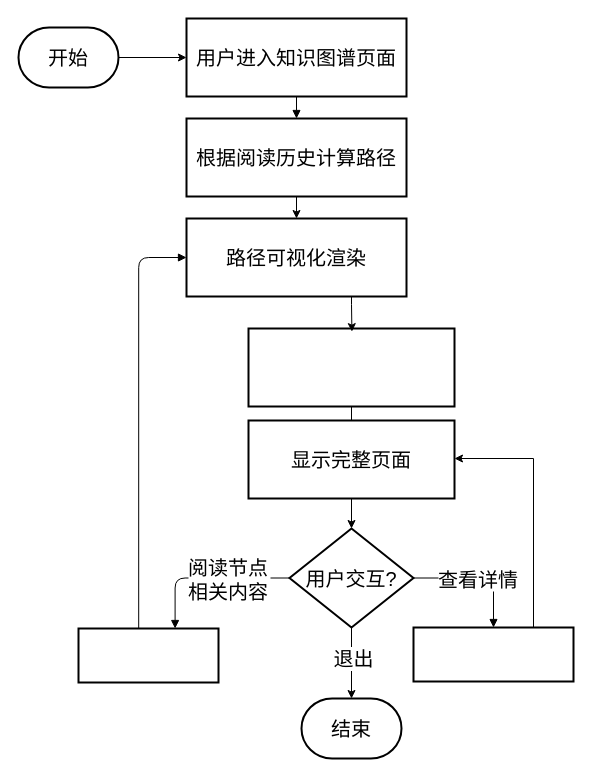
The diagram is 591 pixels wide and 776 high, and some of its shapes have lost their labels. The centre of each missing label's shape, as x and y in pixels:
增加相应节点传播量: [148,655]
展示论文摘要/作者/年份: [493,654]
根据传播度计算颜色并进行渲染: [351,367]
